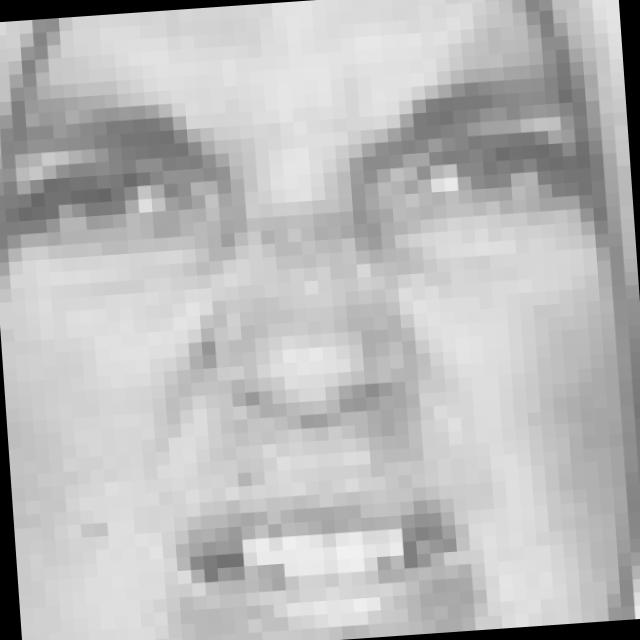disgust: (4, 60, 629, 640)
